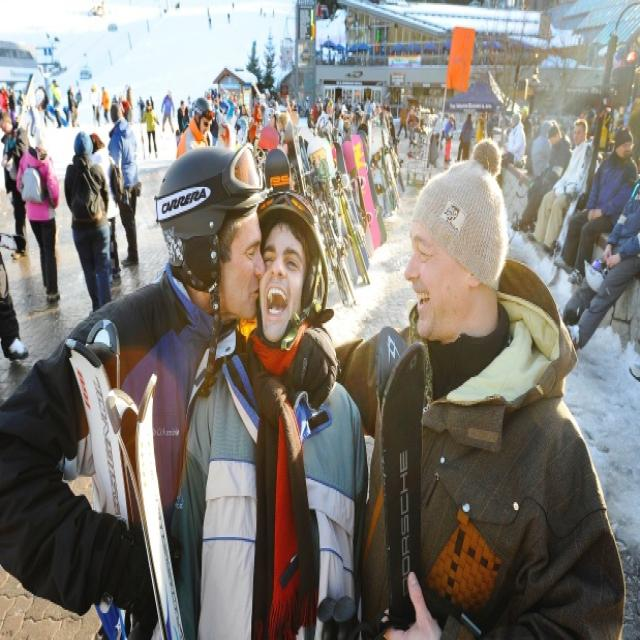body: (332, 133, 626, 638), (0, 136, 269, 640), (149, 177, 378, 638), (552, 124, 639, 288), (559, 176, 640, 350), (525, 114, 595, 258), (63, 128, 113, 312), (14, 117, 61, 306), (510, 123, 573, 234), (108, 101, 142, 268), (88, 130, 123, 287), (0, 214, 31, 372), (0, 110, 30, 262), (175, 95, 215, 163), (33, 84, 85, 130), (180, 87, 219, 146), (530, 114, 562, 179), (335, 96, 389, 126), (502, 111, 528, 165), (140, 97, 160, 160), (108, 82, 134, 126), (159, 87, 177, 135), (455, 111, 472, 160), (472, 109, 496, 143), (313, 97, 333, 136), (65, 82, 80, 128), (49, 78, 62, 130), (440, 113, 453, 163), (265, 97, 282, 130), (89, 82, 101, 128), (394, 103, 408, 139), (6, 86, 18, 126), (99, 84, 111, 124), (404, 108, 417, 141), (0, 84, 9, 125), (177, 98, 186, 133), (135, 94, 145, 125), (146, 95, 155, 125), (303, 93, 310, 119)
